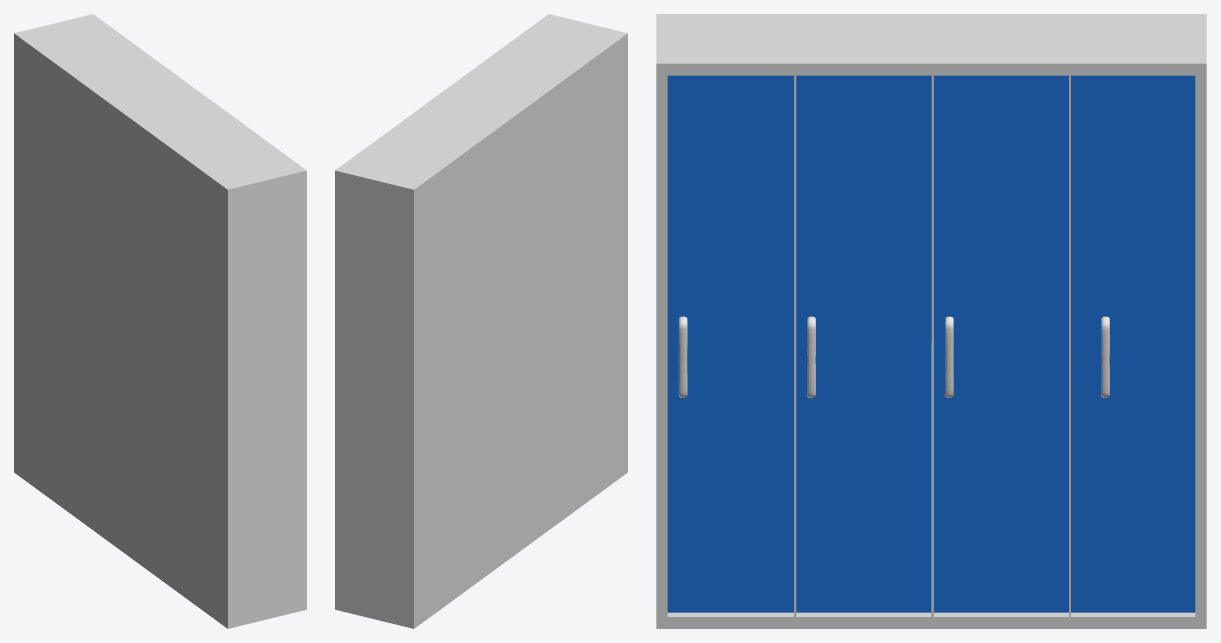
The model's file is skrinky.fbx.
3 renders of one model, left to right at view 1: azimuth 30°, elevation 25°; view 2: azimuth 150°, elevation 25°; view 3: azimuth 270°, elevation 25°, orthographic. The views are drawn at different scales.
Parts seen in each view (by area): view 1: Cube; view 2: Cube; view 3: Cube, Cube.005.
Boxes of the visible parts, bbox=[...] form: Cube: bbox=[14, 14, 306, 628]; Cube: bbox=[335, 14, 627, 628]; Cube: bbox=[656, 14, 1206, 628]; Cube.005: bbox=[678, 316, 687, 397].
Size of the model in its own units: 79.32 by 420 by 371.
